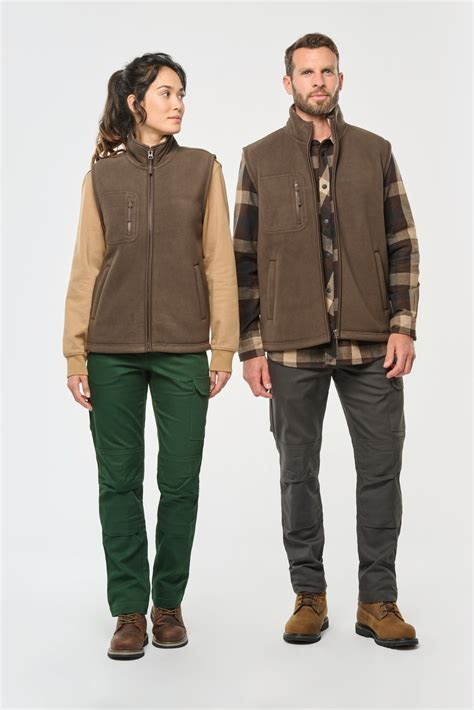femme: (59, 28, 221, 671)
homme: (236, 33, 425, 679)
